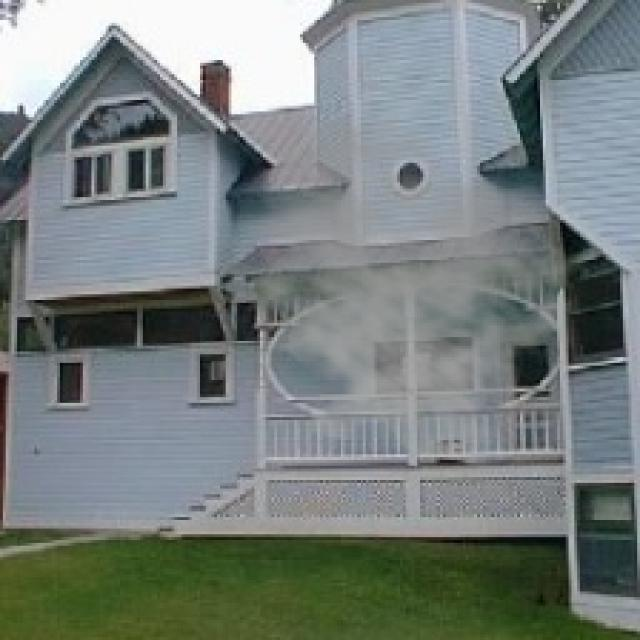smoke: (206, 111, 594, 468)
